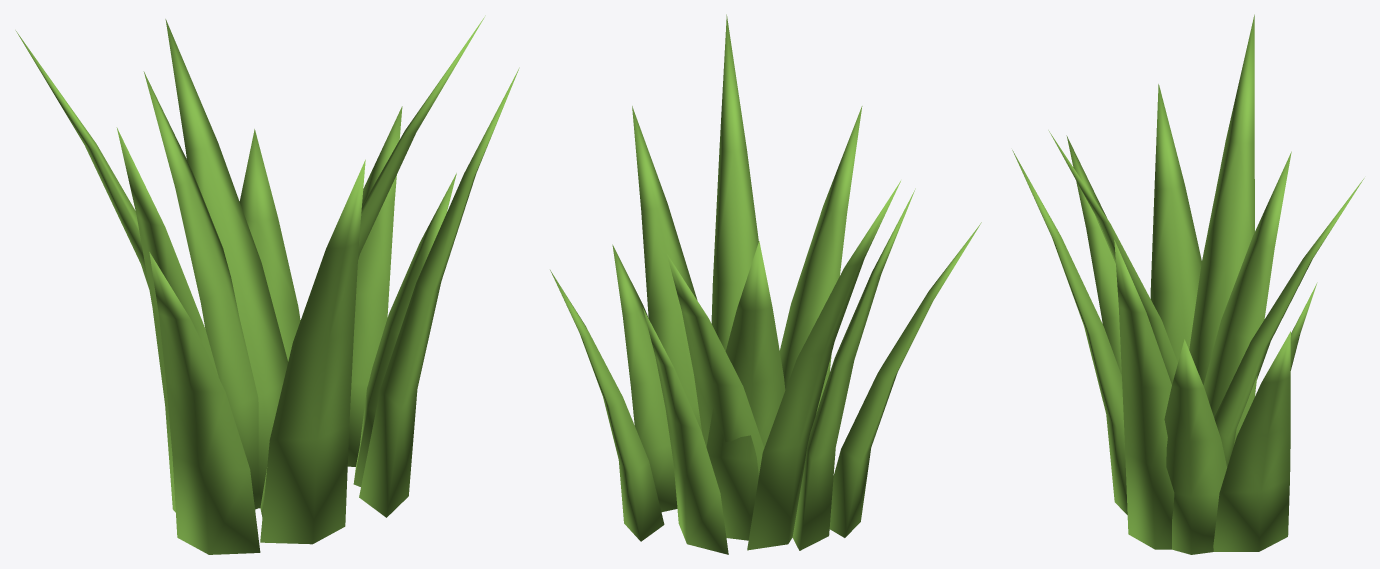
File: grass-tuft.glb
The picture shows the model from 3 angles, left to right: view 1: azimuth 30°, elevation 25°; view 2: azimuth 150°, elevation 25°; view 3: azimuth 270°, elevation 25°; orthographic projection. The views are drawn at different scales.
Parts seen in each view (by area): view 1: body; view 2: body; view 3: body.
Boxes of the visible parts, x1,y1,x2,y2 form: body: [15, 15, 519, 554]; body: [550, 14, 981, 554]; body: [1012, 14, 1364, 554].
Bounding box in the file's own units: 0.2329 × 0.2807 × 0.2123.
